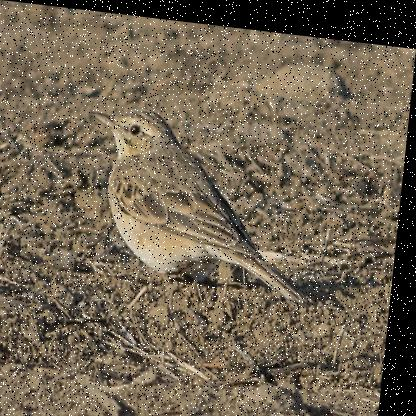Burung: (78, 97, 323, 298)
